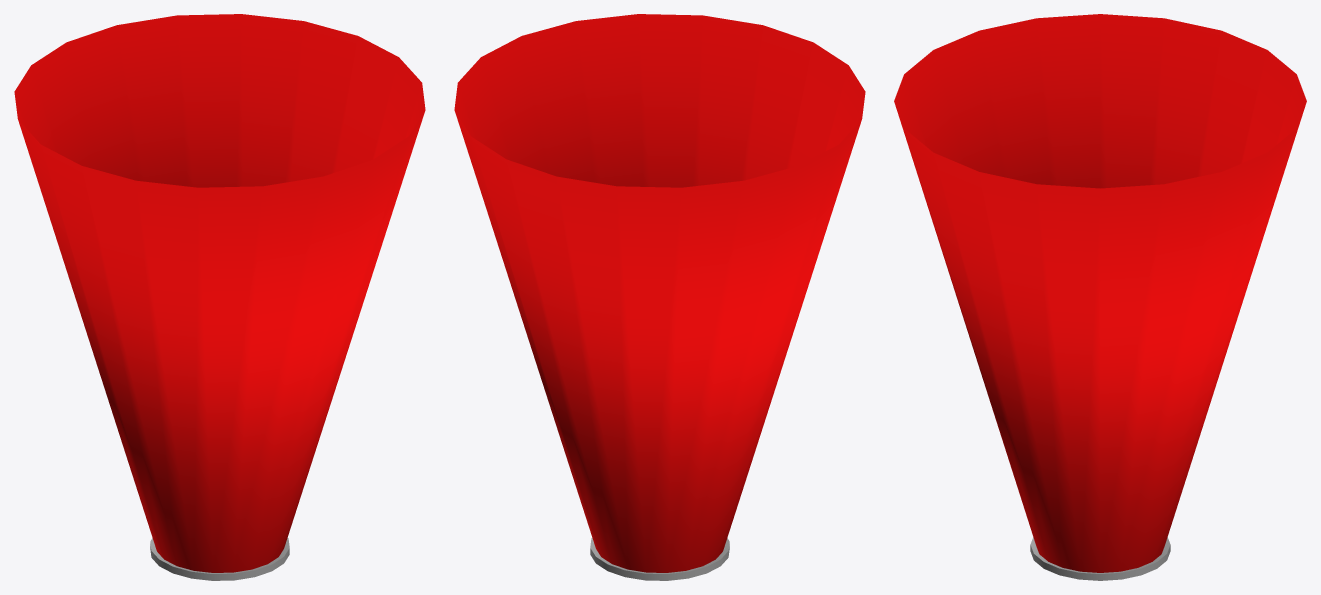
File: Cylinder_Light_Export_01.fbx
3 views of the same model, side by side, from view 1: azimuth 30°, elevation 25°; view 2: azimuth 150°, elevation 25°; view 3: azimuth 270°, elevation 25° (orthographic).
Visible parts, largest first — view 1: Cylinder_Light; view 2: Cylinder_Light; view 3: Cylinder_Light.
Boxes of the visible parts, <box> form: Cylinder_Light: <box>14,14,425,580</box>; Cylinder_Light: <box>454,14,865,580</box>; Cylinder_Light: <box>894,14,1306,580</box>.
Size of the model in its own units: 125 by 150 by 125.
